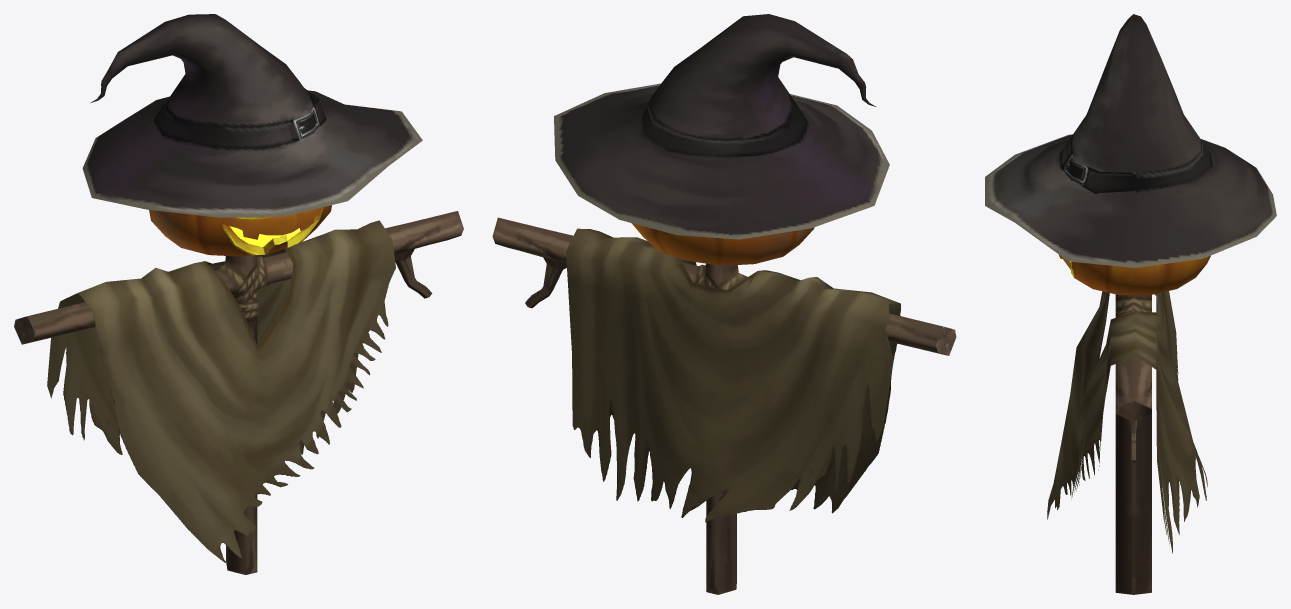
Rendered from model_pumpkin.FBX.
3 views of the same model, side by side, from view 1: azimuth 30°, elevation 25°; view 2: azimuth 150°, elevation 25°; view 3: azimuth 270°, elevation 25° (orthographic). The views are drawn at different scales.
Visible parts, largest first — view 1: model_pumpkin, model_pumpkin1; view 2: model_pumpkin, model_pumpkin1; view 3: model_pumpkin, model_pumpkin1.
Part boxes in pixels (x1=…): model_pumpkin: x1=14, y1=14, x2=463, y2=574; model_pumpkin1: x1=149, y1=205, x2=331, y2=256; model_pumpkin: x1=492, y1=14, x2=956, y2=594; model_pumpkin1: x1=631, y1=223, x2=814, y2=265; model_pumpkin: x1=985, y1=14, x2=1276, y2=594; model_pumpkin1: x1=1058, y1=254, x2=1210, y2=295.
Bounding box in the file's own units: 83.56 × 103 × 50.66.
